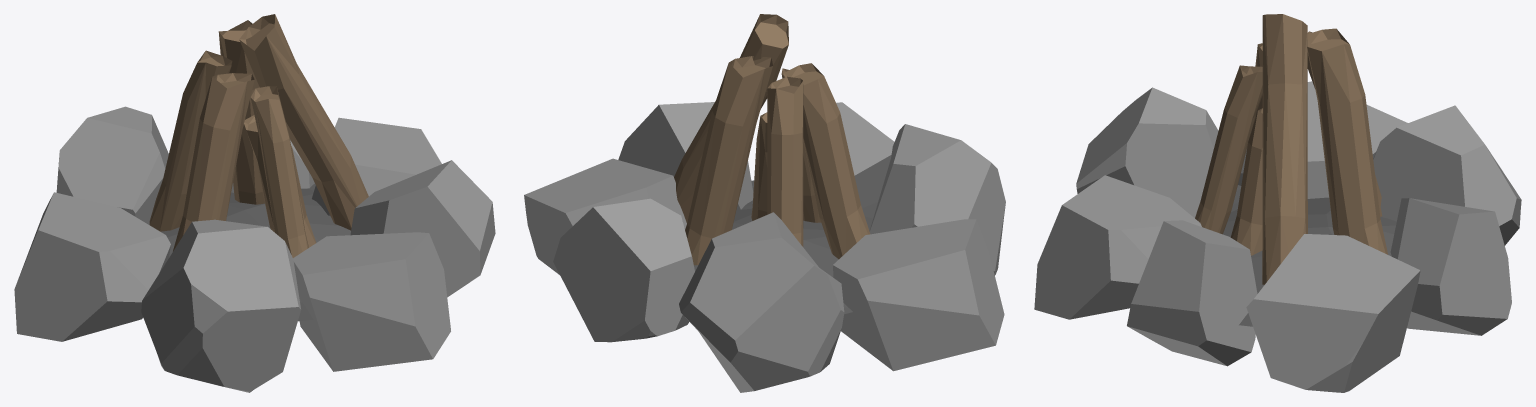
The model's file is Campfire.glb.
3 renders of one model, left to right at view 1: azimuth 30°, elevation 25°; view 2: azimuth 150°, elevation 25°; view 3: azimuth 270°, elevation 25°, orthographic. The views are drawn at different scales.
Parts seen in each view (by area): view 1: Rock.001, Wood, Ash; view 2: Rock.001, Wood, Ash; view 3: Rock.001, Wood, Ash.
Part boxes in pixels (x1=…): Rock.001: x1=14, y1=106, x2=495, y2=392; Wood: x1=149, y1=14, x2=368, y2=257; Ash: x1=161, y1=183, x2=350, y2=321; Rock.001: x1=524, y1=102, x2=1005, y2=392; Wood: x1=674, y1=14, x2=870, y2=265; Ash: x1=694, y1=180, x2=877, y2=314; Rock.001: x1=1034, y1=81, x2=1521, y2=392; Wood: x1=1195, y1=14, x2=1387, y2=284; Ash: x1=1223, y1=185, x2=1396, y2=326.
Bounding box in the file's own units: 3.11 × 2.03 × 2.82.
